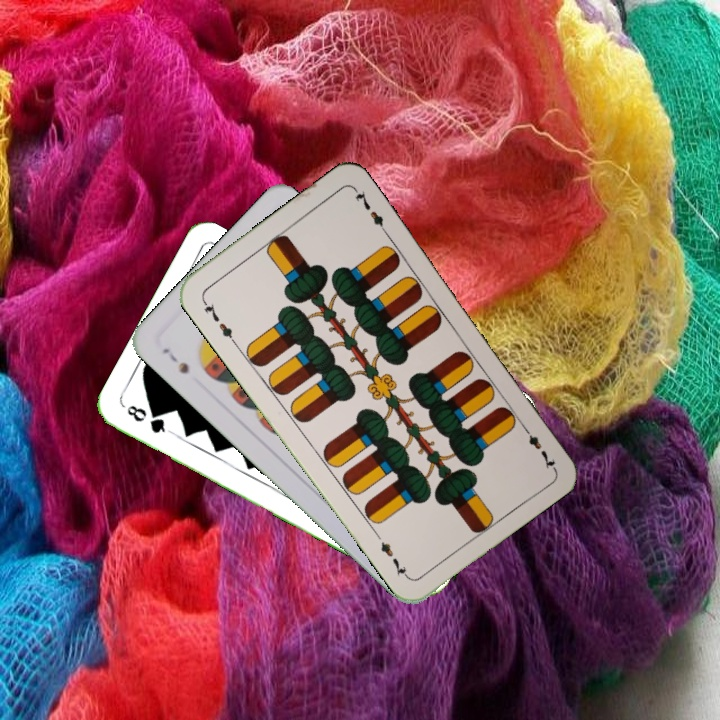E7: (517, 420, 558, 472), (198, 295, 238, 346)
G8: (122, 401, 175, 436)
S7: (158, 343, 192, 377)
